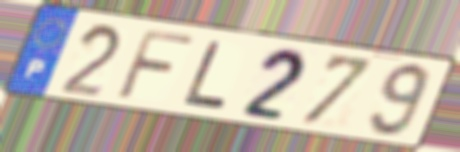2: (232, 44, 313, 127), (55, 21, 127, 98)
7: (301, 51, 380, 129)
9: (366, 60, 432, 140)
F: (112, 27, 199, 104)
L: (180, 38, 232, 111)
